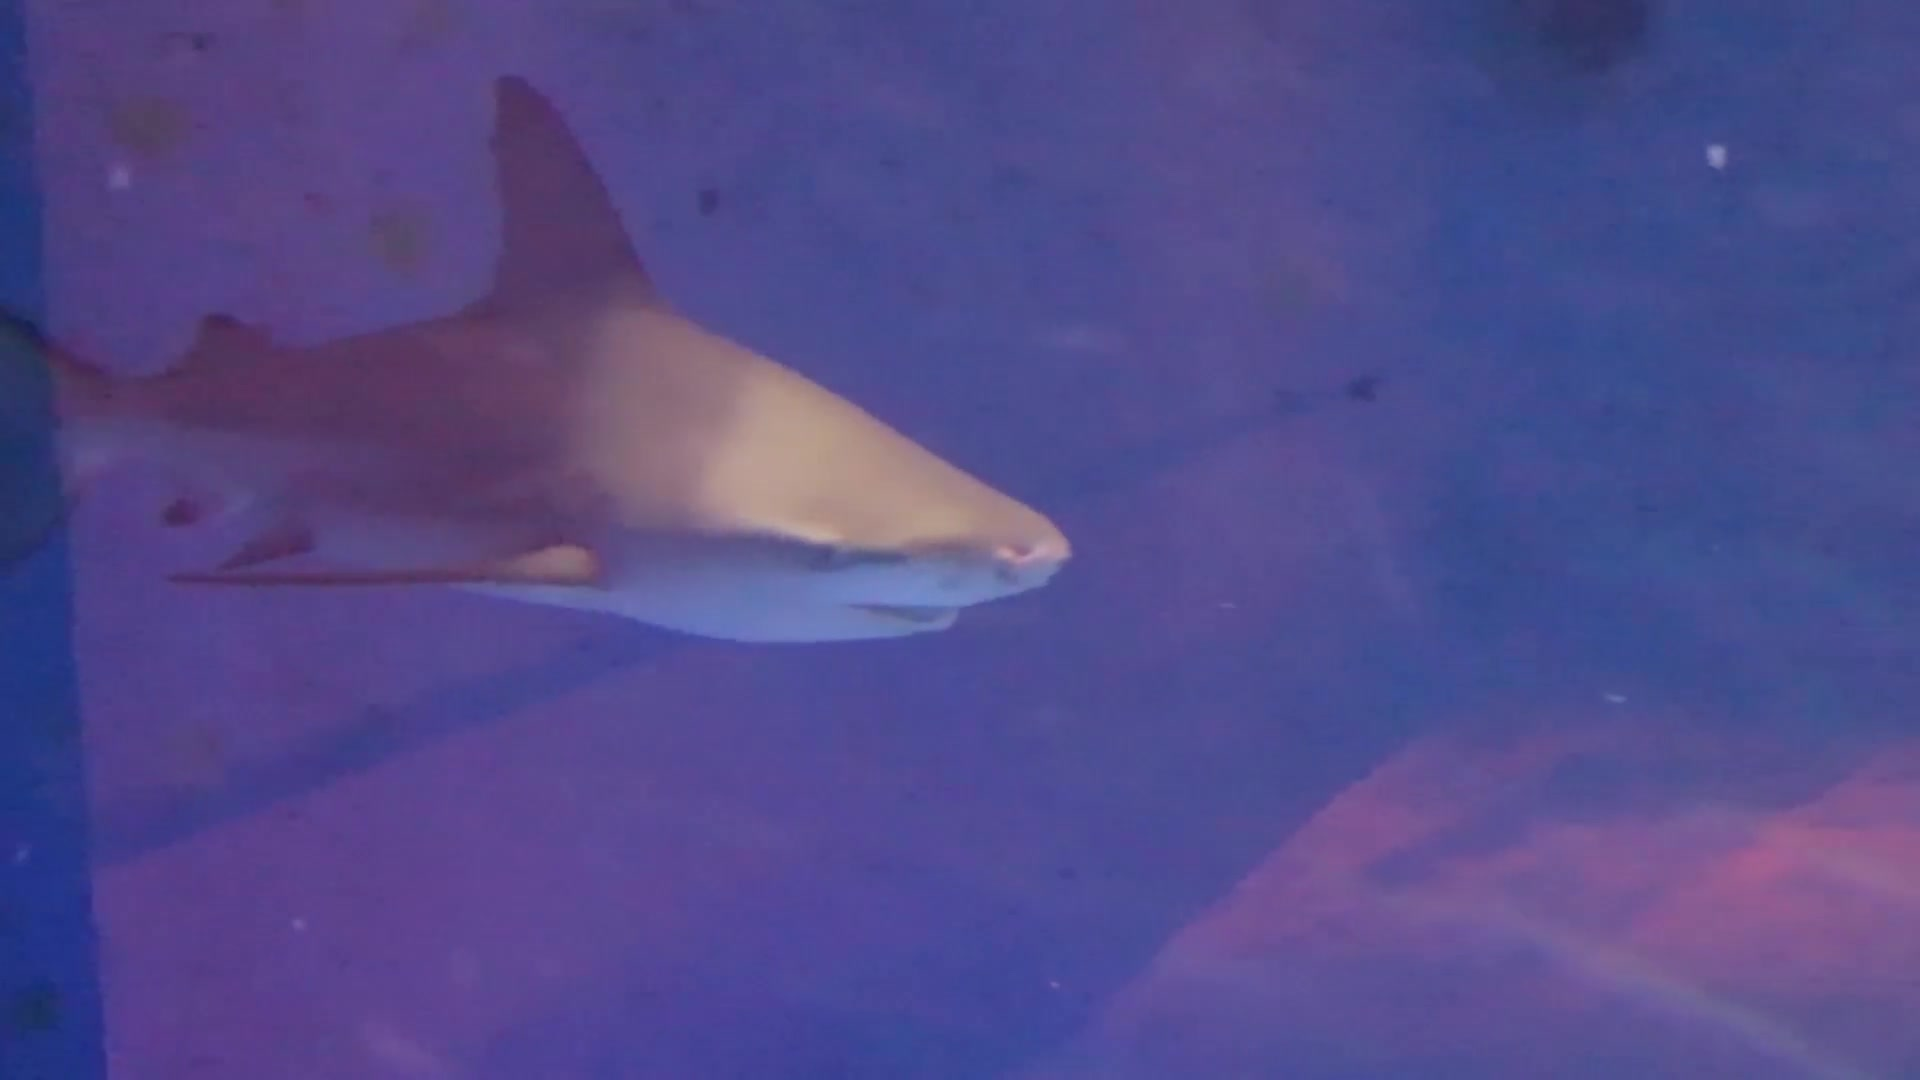Carcharhinus leucas: (1, 1, 1087, 709)
